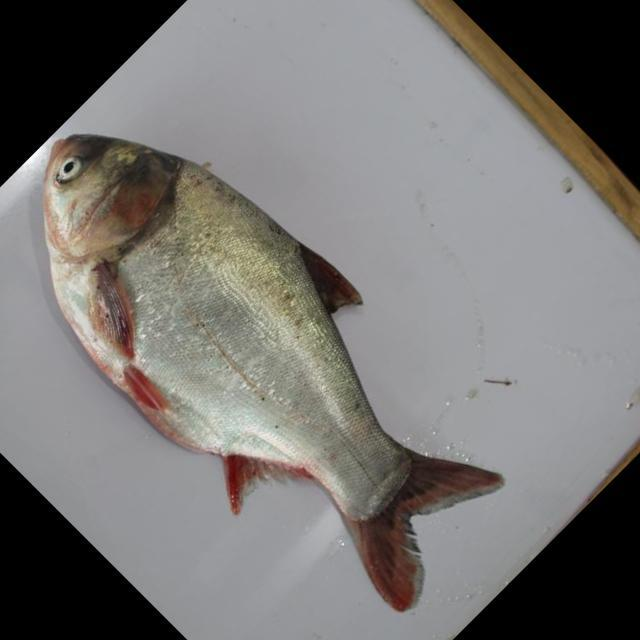SilverCarp: (49, 126, 494, 610)
